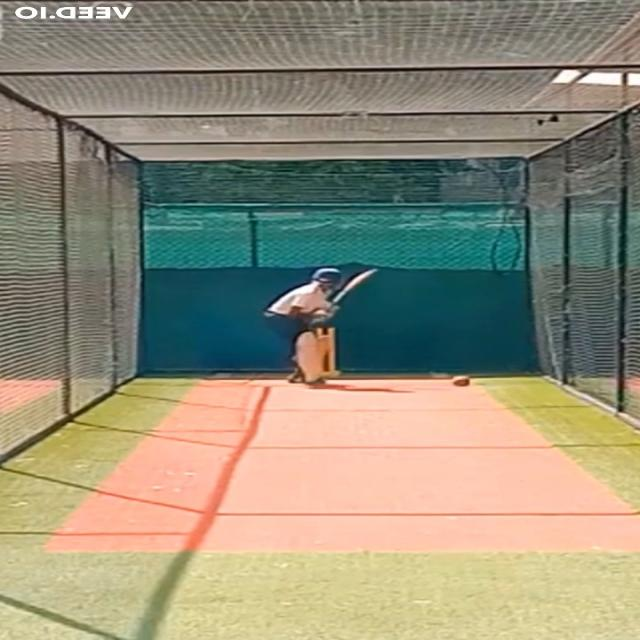ball: (450, 375, 474, 388)
stump: (314, 328, 338, 377)
